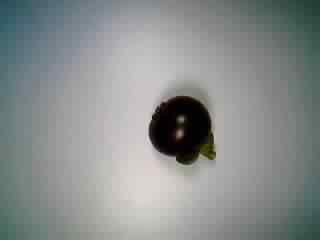mangosteen: (142, 93, 227, 169)
